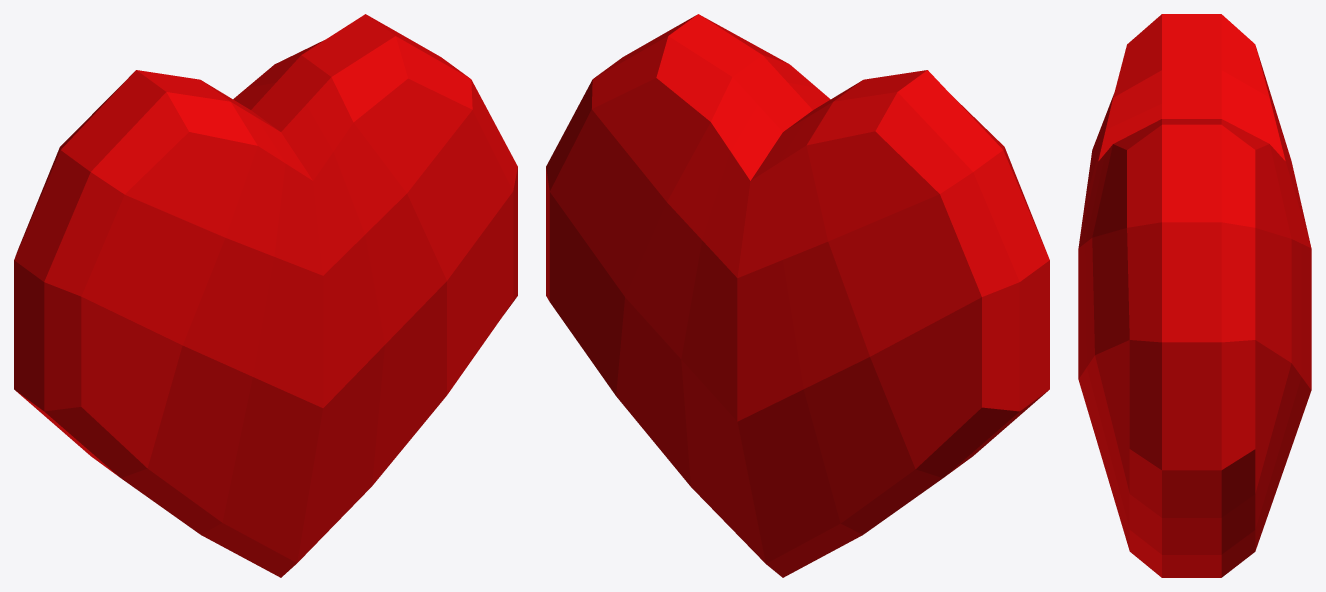
The model's file is Heart.fbx.
3 renders of one model, left to right at view 1: azimuth 30°, elevation 25°; view 2: azimuth 150°, elevation 25°; view 3: azimuth 270°, elevation 25°, orthographic.
Visible parts, largest first — view 1: Cube; view 2: Cube; view 3: Cube.
Boxes of the visible parts, left/top/right/bottom form: Cube: left=14, top=14, right=517, bottom=577; Cube: left=546, top=14, right=1049, bottom=577; Cube: left=1078, top=14, right=1311, bottom=577.
Size of the model in its own units: 293 by 304 by 126.
